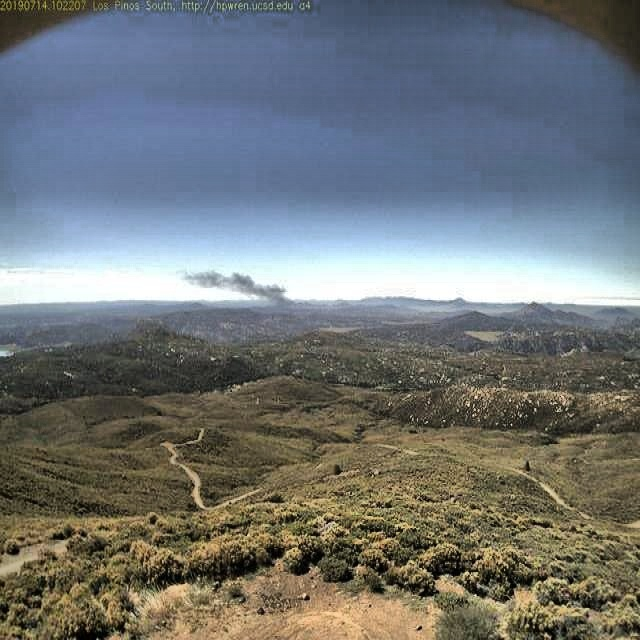smoke: (183, 265, 309, 312)
